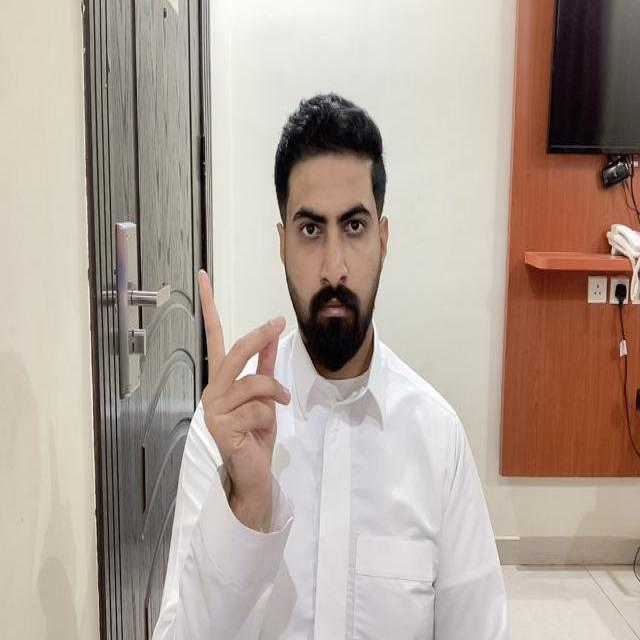emergency: (195, 267, 291, 525)
